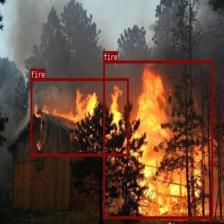fire: (103, 60, 213, 218), (30, 78, 129, 155)
